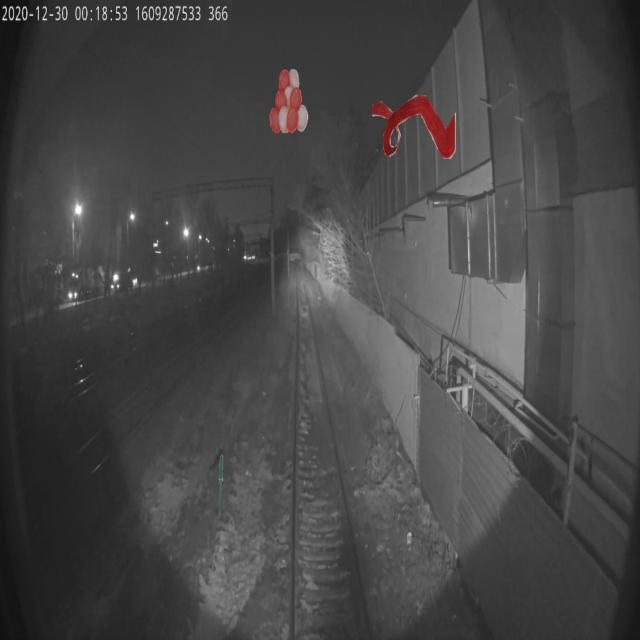balloon: (269, 68, 308, 132)
floating object: (372, 95, 456, 159), (218, 454, 223, 518)
